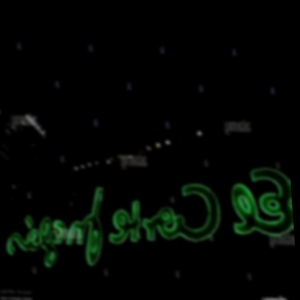corte_ingles: (0, 165, 298, 293)
